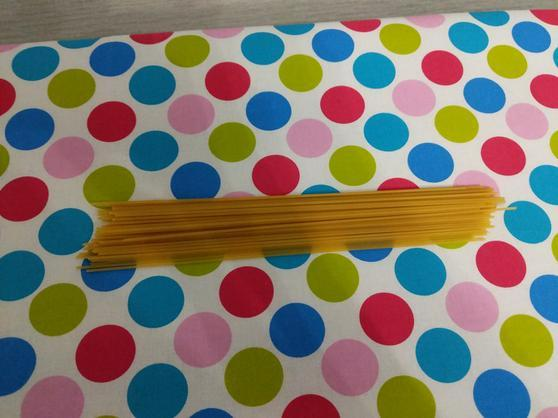spaghetti: (70, 177, 516, 282)
